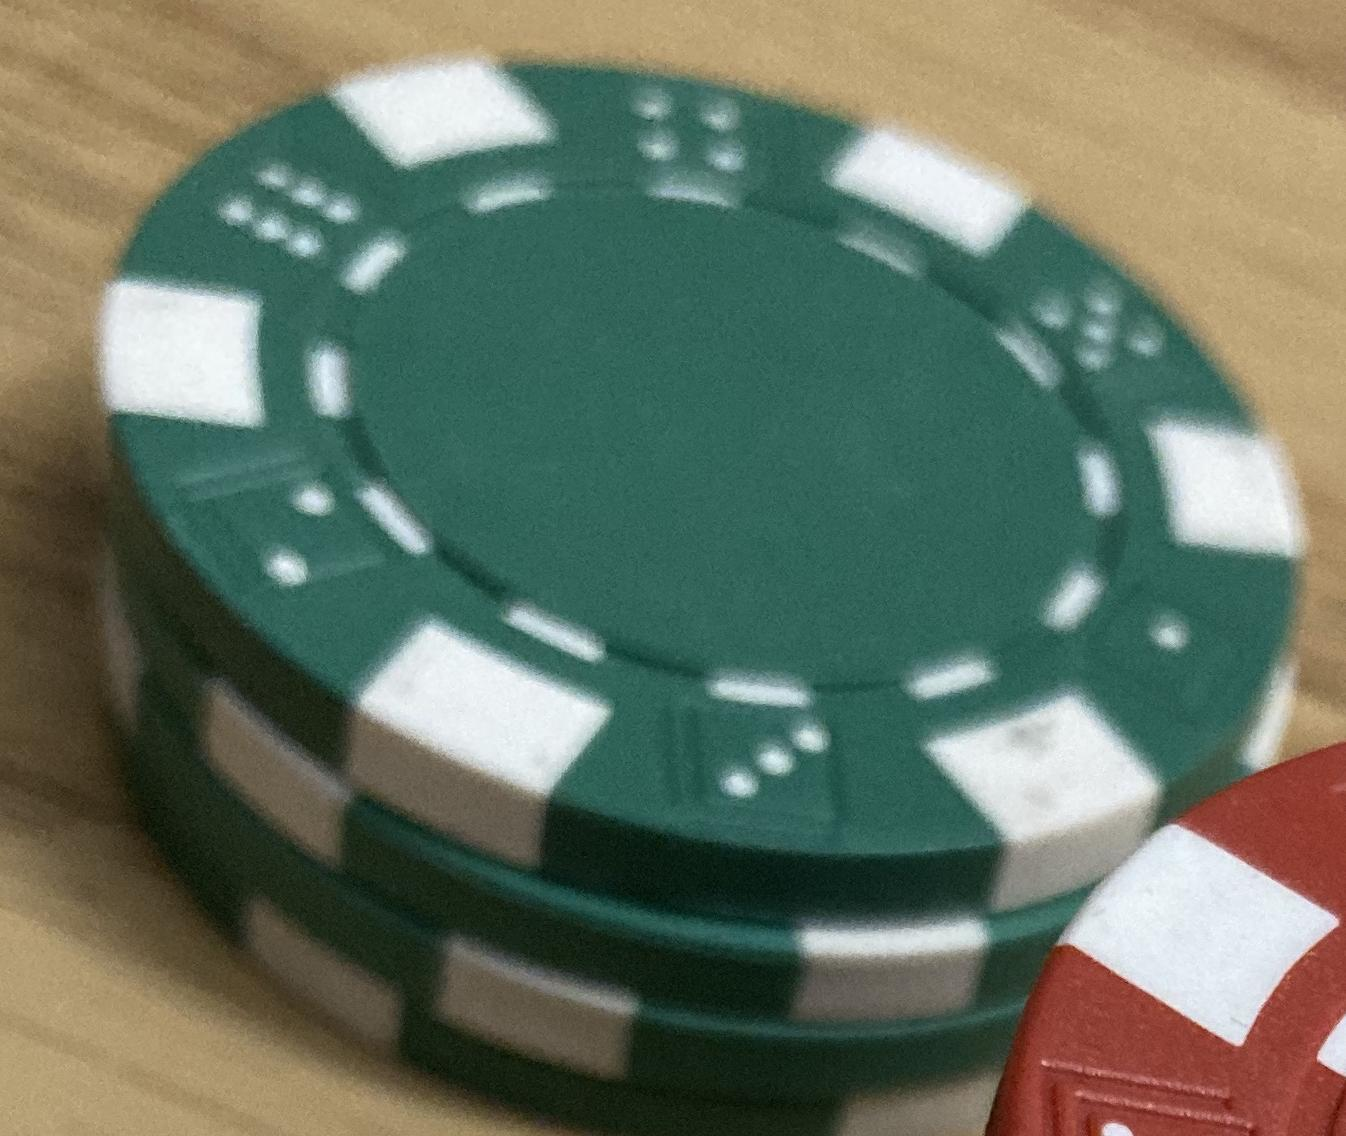Chip: (1, 2, 1346, 1136)
